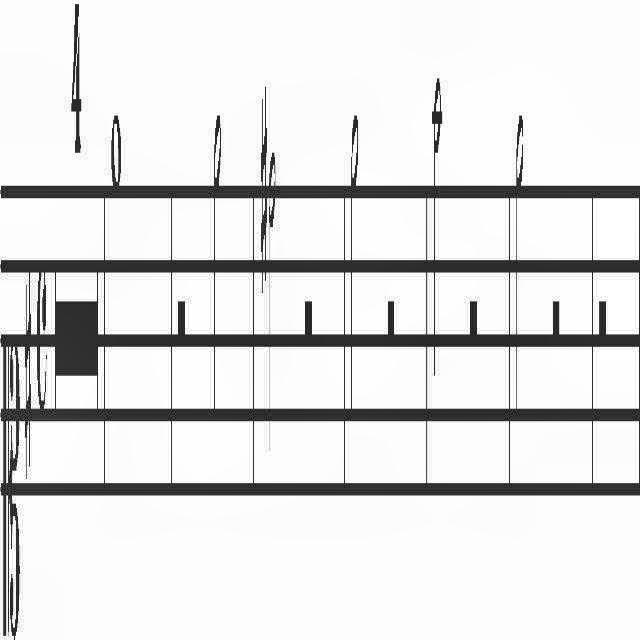Diez: (24, 264, 32, 488), (260, 79, 268, 294)
Full-note: (111, 102, 121, 186)
Half-note: (349, 103, 359, 429), (515, 103, 525, 417), (212, 107, 222, 417), (432, 70, 441, 402), (268, 145, 276, 467)
